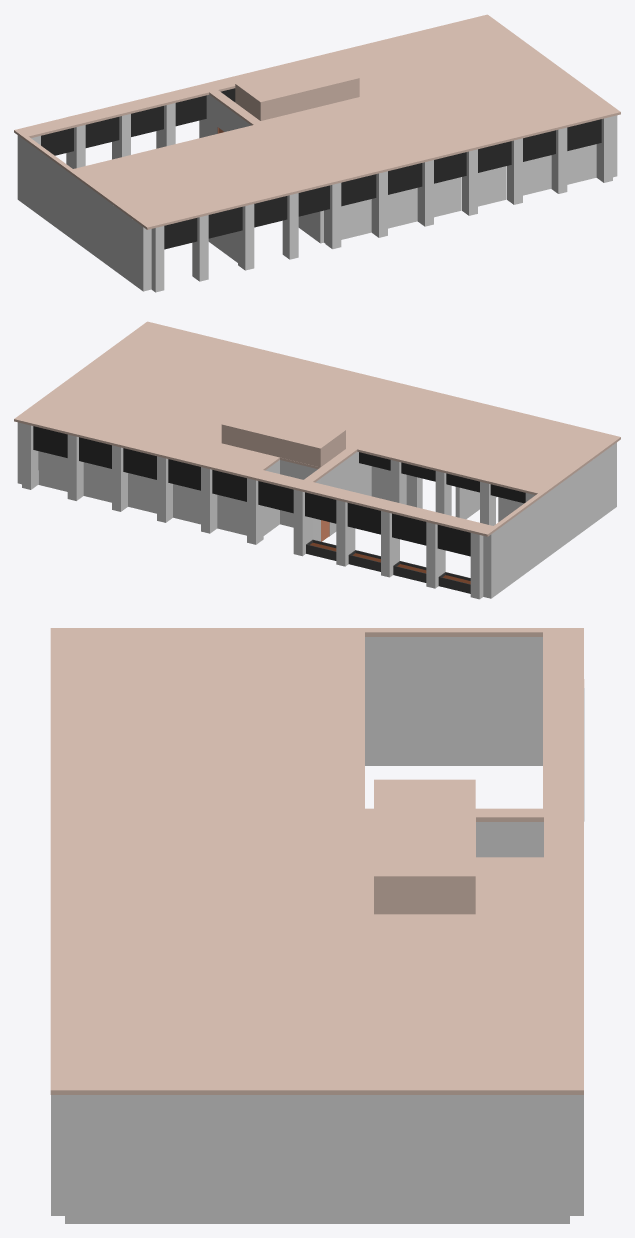
File: MSH_Torre-B_Azotea.fbx
The picture shows the model from 3 angles, top to bottom: view 1: azimuth 30°, elevation 25°; view 2: azimuth 150°, elevation 25°; view 3: azimuth 270°, elevation 25°; orthographic projection. The views are drawn at different scales.
Visible parts, largest first — view 1: MSH_Torre_2.Azotea, MSH_Azotea-terraza-food-lab_Torre-B, MSH_Techo-food-lab_Torre-B; view 2: MSH_Torre_2.Azotea, MSH_Azotea-terraza-food-lab_Torre-B, MSH_Techo-food-lab_Torre-B, MSH_Macetas; view 3: MSH_Torre_2.Azotea, MSH_Techo-food-lab_Torre-B, MSH_Azotea-terraza-food-lab_Torre-B.
Boxes of the visible parts, left/top/right/bottom form: MSH_Torre_2.Azotea: left=208, top=14, right=620, bottom=239; MSH_Azotea-terraza-food-lab_Torre-B: left=14, top=83, right=341, bottom=292; MSH_Techo-food-lab_Torre-B: left=83, top=133, right=341, bottom=229; MSH_Torre_2.Azotea: left=14, top=321, right=426, bottom=535; MSH_Azotea-terraza-food-lab_Torre-B: left=247, top=437, right=616, bottom=599; MSH_Techo-food-lab_Torre-B: left=363, top=390, right=620, bottom=485; MSH_Macetas: left=306, top=539, right=470, bottom=593; MSH_Torre_2.Azotea: left=50, top=779, right=583, bottom=1223; MSH_Techo-food-lab_Torre-B: left=50, top=628, right=307, bottom=817; MSH_Azotea-terraza-food-lab_Torre-B: left=307, top=628, right=584, bottom=857.
Size of the model in its own units: 3226 by 558 by 1573.
